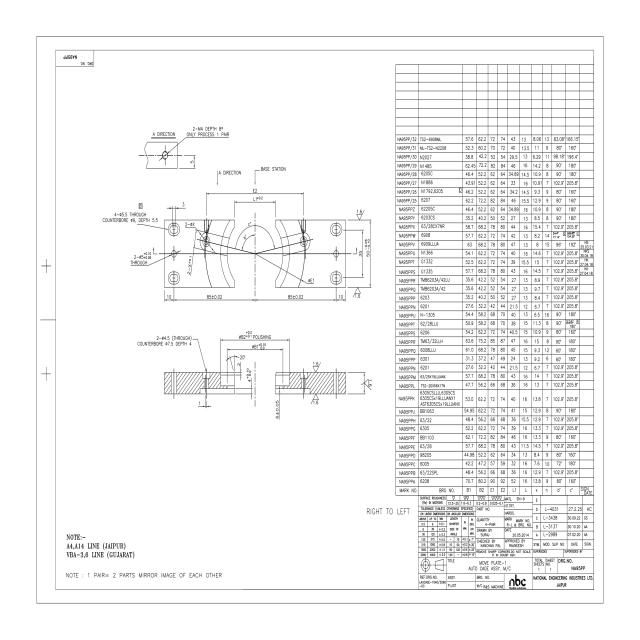dimension: (204, 187, 306, 219), (347, 218, 371, 288), (254, 288, 337, 303), (173, 288, 256, 303), (342, 228, 365, 278), (233, 195, 278, 219), (220, 330, 290, 344), (136, 334, 193, 348), (103, 209, 158, 223), (184, 124, 230, 139), (234, 220, 257, 250), (226, 342, 284, 353), (186, 230, 198, 277), (232, 232, 256, 251), (131, 250, 153, 266), (166, 201, 186, 218), (181, 152, 197, 172), (234, 354, 244, 381), (334, 288, 348, 304), (245, 368, 253, 396), (198, 394, 212, 409), (163, 288, 176, 304), (275, 386, 280, 420), (183, 220, 197, 230), (305, 276, 316, 286)
